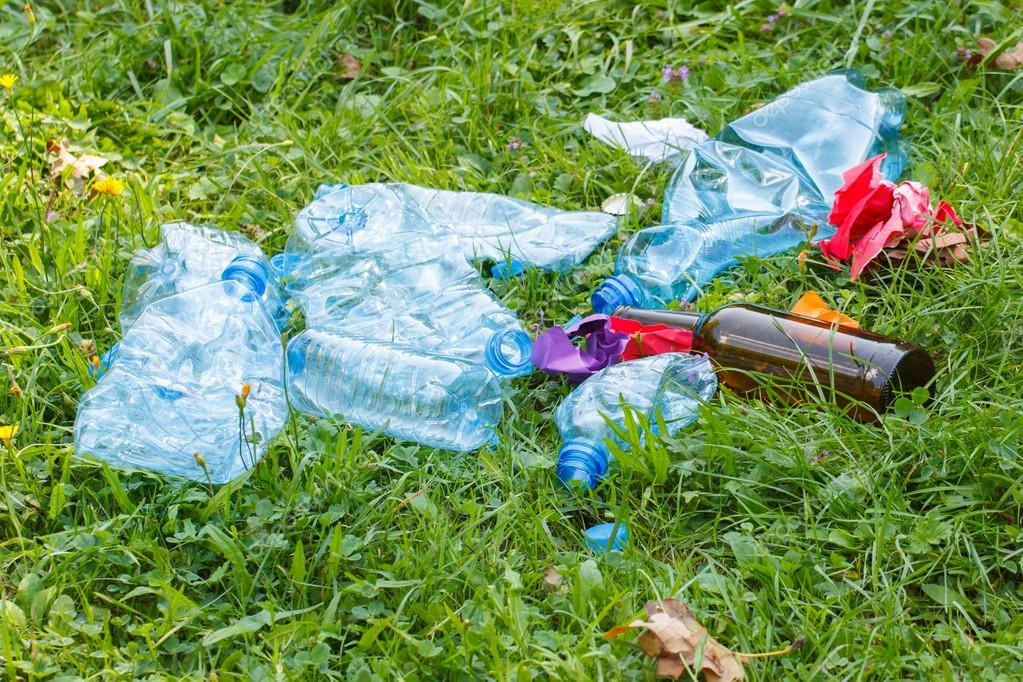bottle: (591, 63, 914, 313), (600, 296, 943, 432), (273, 320, 503, 454)
